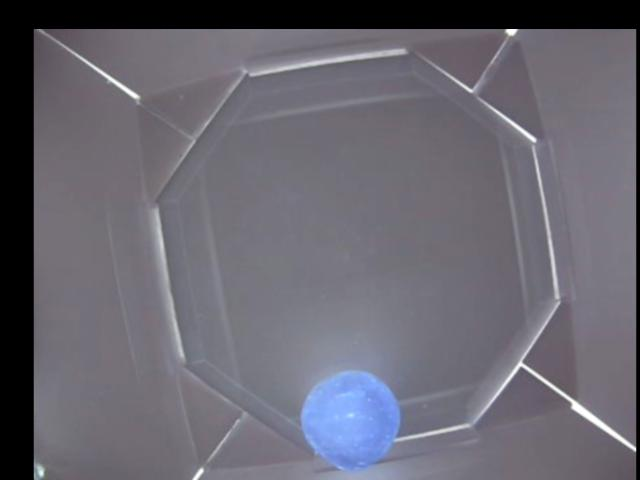Potato: (305, 369, 399, 473)
